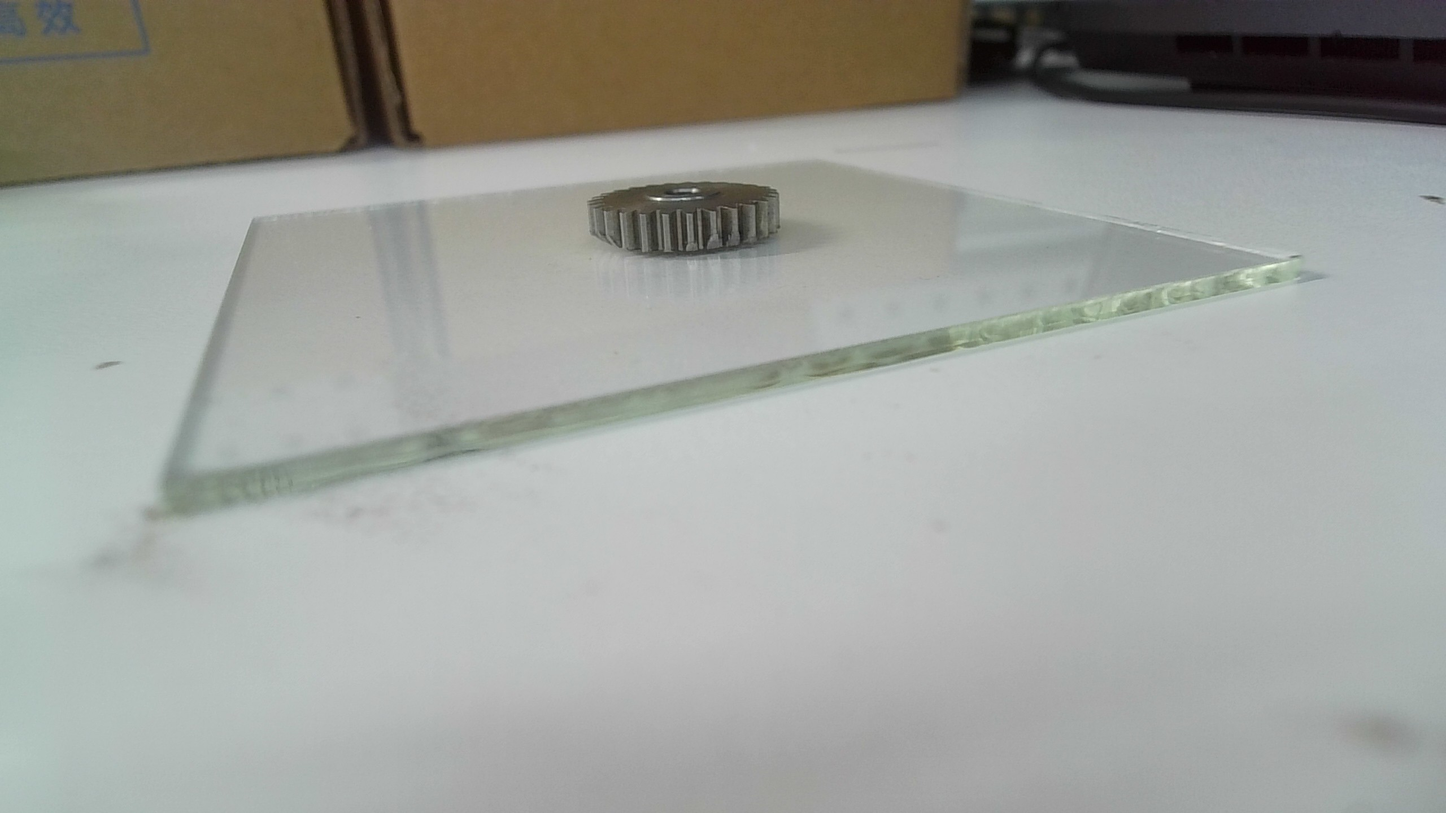gear: (587, 177, 783, 254)
